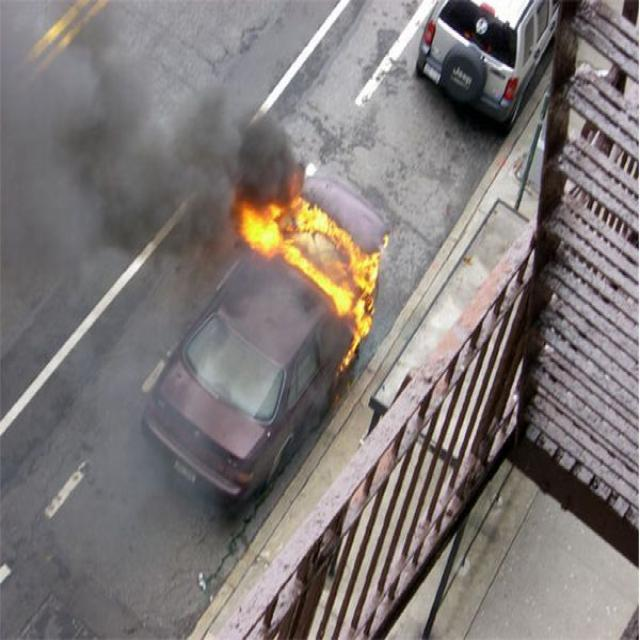Fire: (238, 200, 379, 354)
Smoke: (0, 0, 306, 375)
